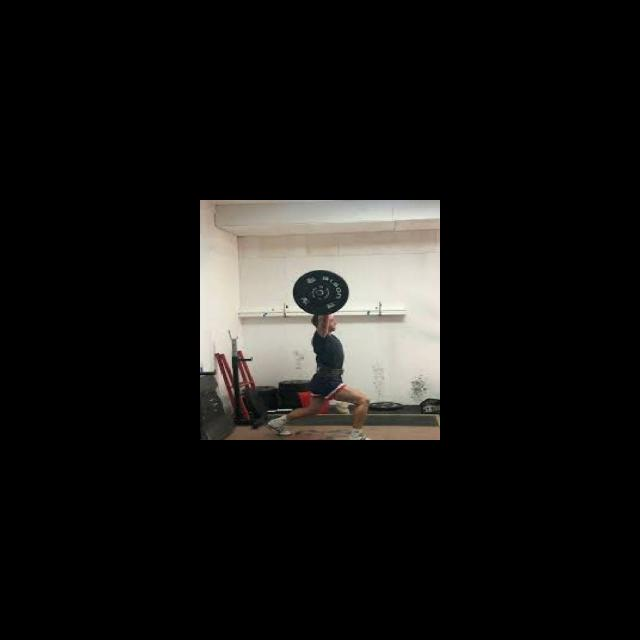barbell: (290, 268, 352, 318)
